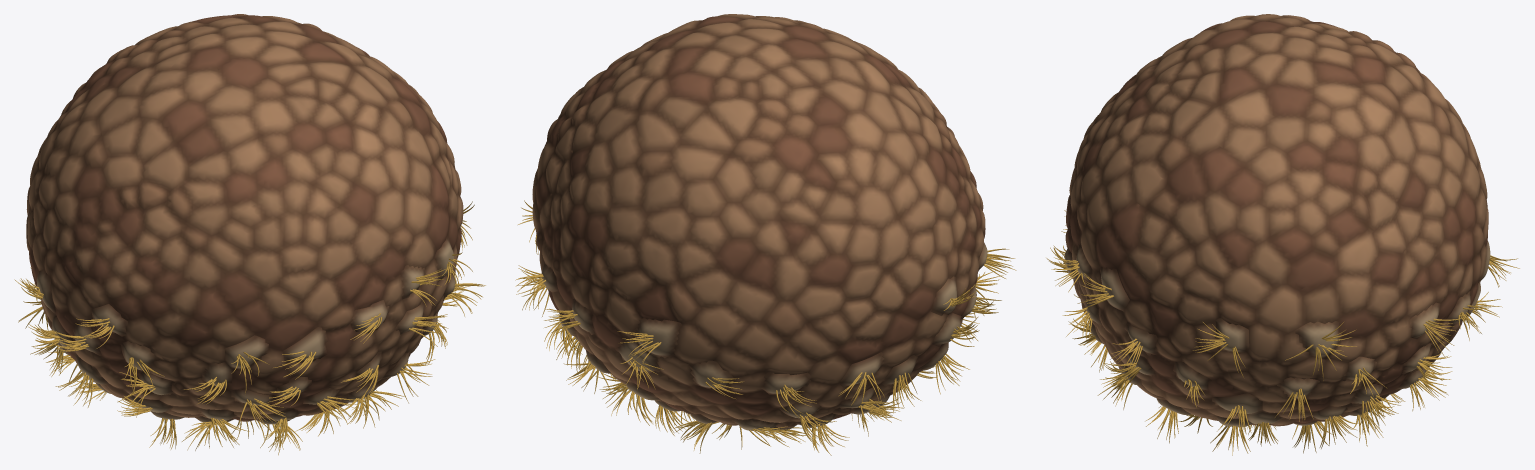
File: construct-345a13ec22f8.glb
3 renders of one model, left to right at view 1: azimuth 30°, elevation 25°; view 2: azimuth 150°, elevation 25°; view 3: azimuth 270°, elevation 25°, orthographic.
Parts seen in each view (by area): view 1: slot:surface, deco:surface:mcc_cells, deco:surface:cilia; view 2: slot:surface, deco:surface:cilia, deco:surface:mcc_cells; view 3: slot:surface, deco:surface:mcc_cells, deco:surface:cilia.
Part boxes in pixels (<box>): slot:surface: <box>26,14,463,421</box>; deco:surface:mcc_cells: <box>37,235,455,424</box>; deco:surface:cilia: <box>14,201,485,455</box>; slot:surface: <box>532,14,985,428</box>; deco:surface:cilia: <box>515,200,1016,455</box>; deco:surface:mcc_cells: <box>541,242,987,431</box>; slot:surface: <box>1065,14,1488,426</box>; deco:surface:mcc_cells: <box>1064,241,1490,427</box>; deco:surface:cilia: <box>1046,210,1519,455</box>.
Size of the model in its own units: 2.33 by 2.08 by 2.28.
